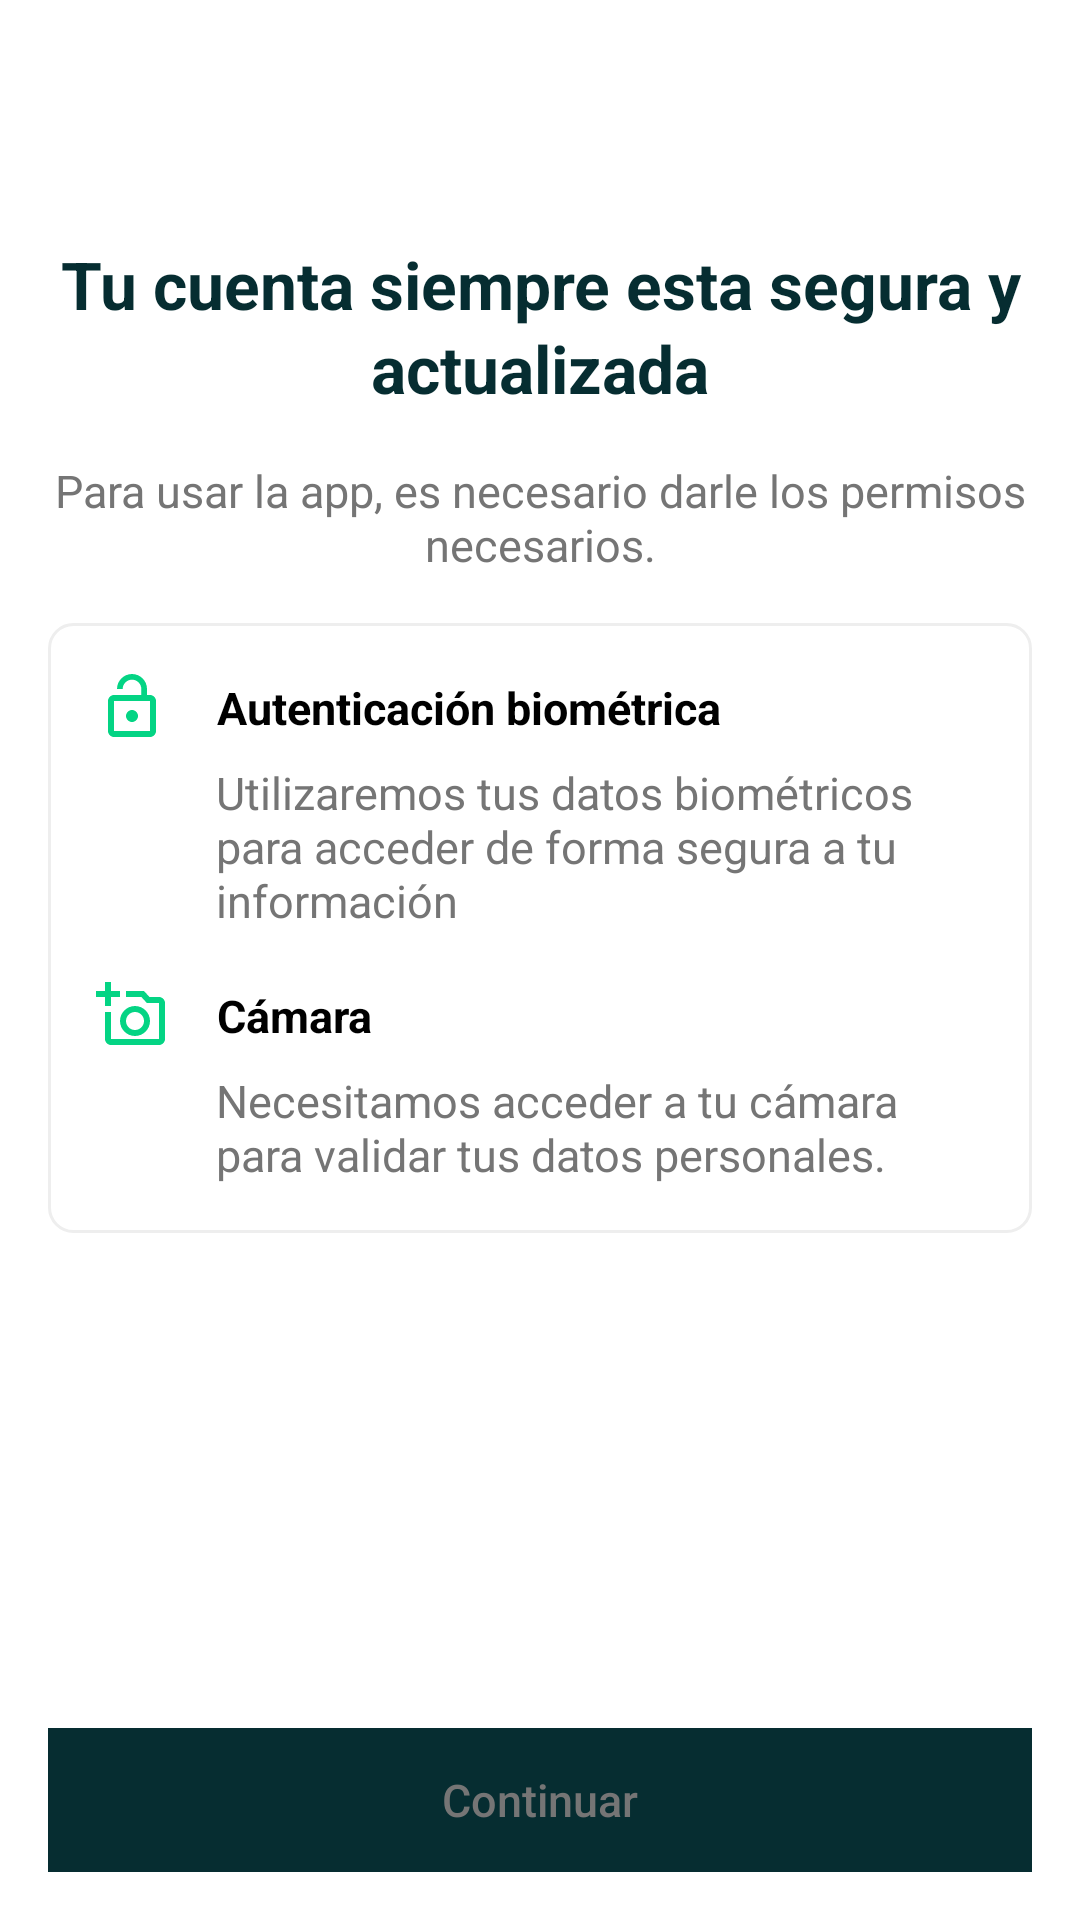

Named icons in this screenshot (1080×1920) and their bounding boxes, (x1, y1, x2, y2):
camera: (96, 982, 165, 1045)
lock: (108, 674, 156, 737)
